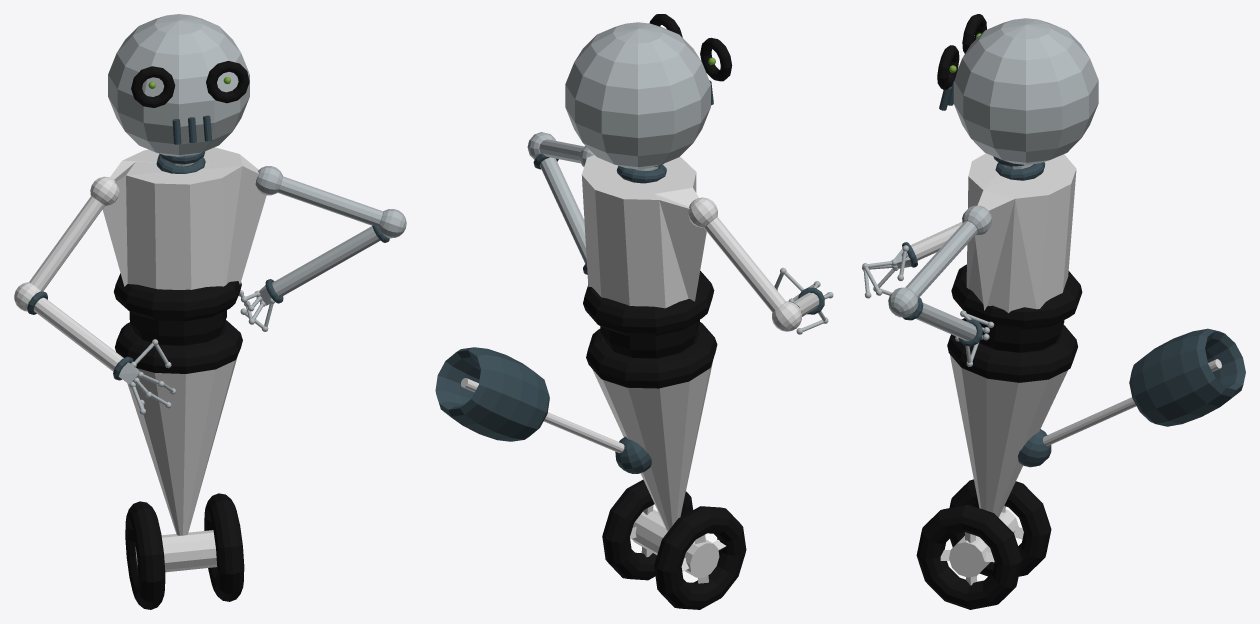
The picture shows the model from 3 angles, left to right: view 1: azimuth 30°, elevation 25°; view 2: azimuth 150°, elevation 25°; view 3: azimuth 270°, elevation 25°; orthographic projection. The views are drawn at different scales.
Visible parts, largest first — view 1: node_MeshObject649985024-PolyPaper15, node_MeshObject1222064128-PolyPaper23; view 2: node_MeshObject649985024-PolyPaper15, node_MeshObject1222064128-PolyPaper23; view 3: node_MeshObject649985024-PolyPaper15, node_MeshObject1222064128-PolyPaper23.
Part boxes in pixels (box(x1,y1,x2,y2)): node_MeshObject649985024-PolyPaper15: box(14, 14, 406, 572); node_MeshObject1222064128-PolyPaper23: box(115, 310, 244, 609); node_MeshObject649985024-PolyPaper15: box(461, 14, 833, 583); node_MeshObject1222064128-PolyPaper23: box(435, 320, 746, 609); node_MeshObject649985024-PolyPaper15: box(862, 14, 1221, 577); node_MeshObject1222064128-PolyPaper23: box(916, 318, 1245, 609).
Bounding box in the file's own units: 1.52 × 2.5 × 1.51.
